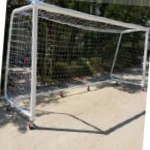goals: (5, 1, 149, 119)
